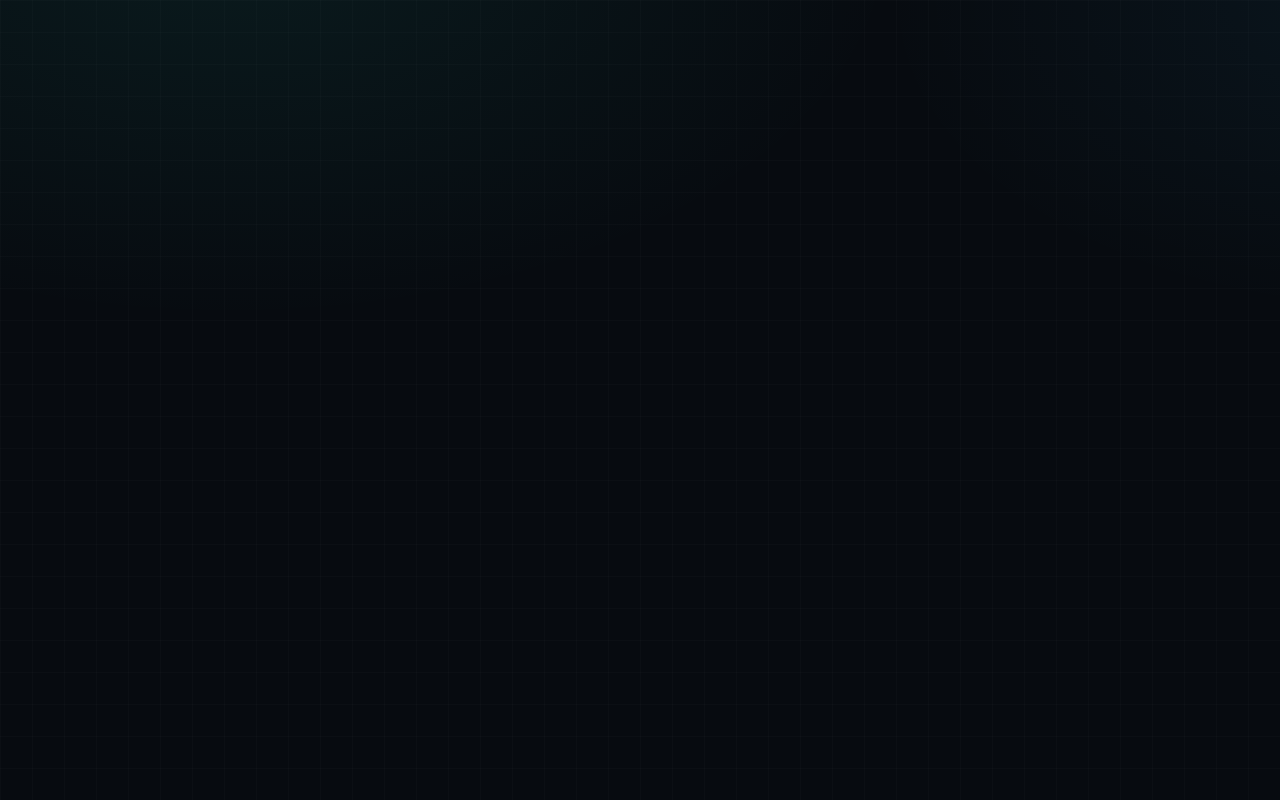
CommandPalette › opens on Cmd/Ctrl+K, filters, and navigates on Enter
Step 1. Press k
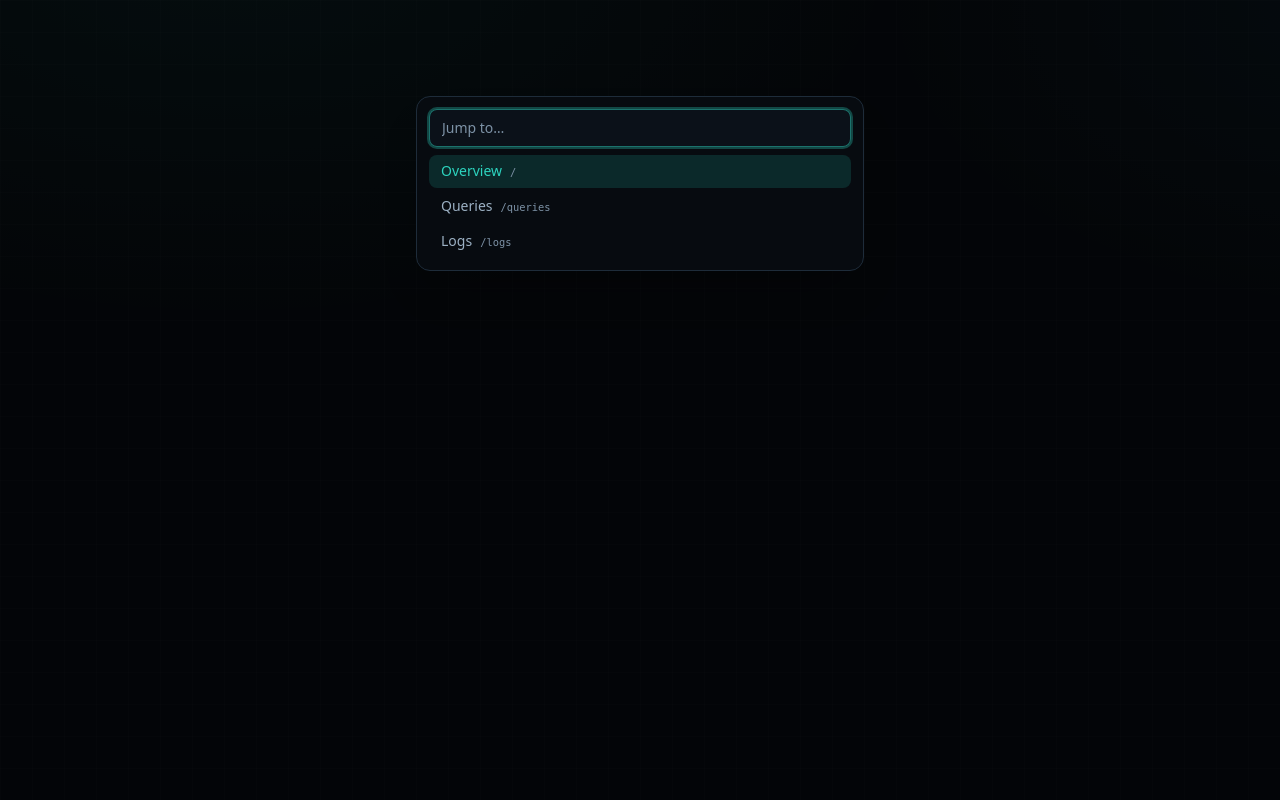
Expected: the element with test id "command-palette" is shown
Step 2. Type "que" into the field with test id "palette-input" → (640, 128), box [429,109,851,147]
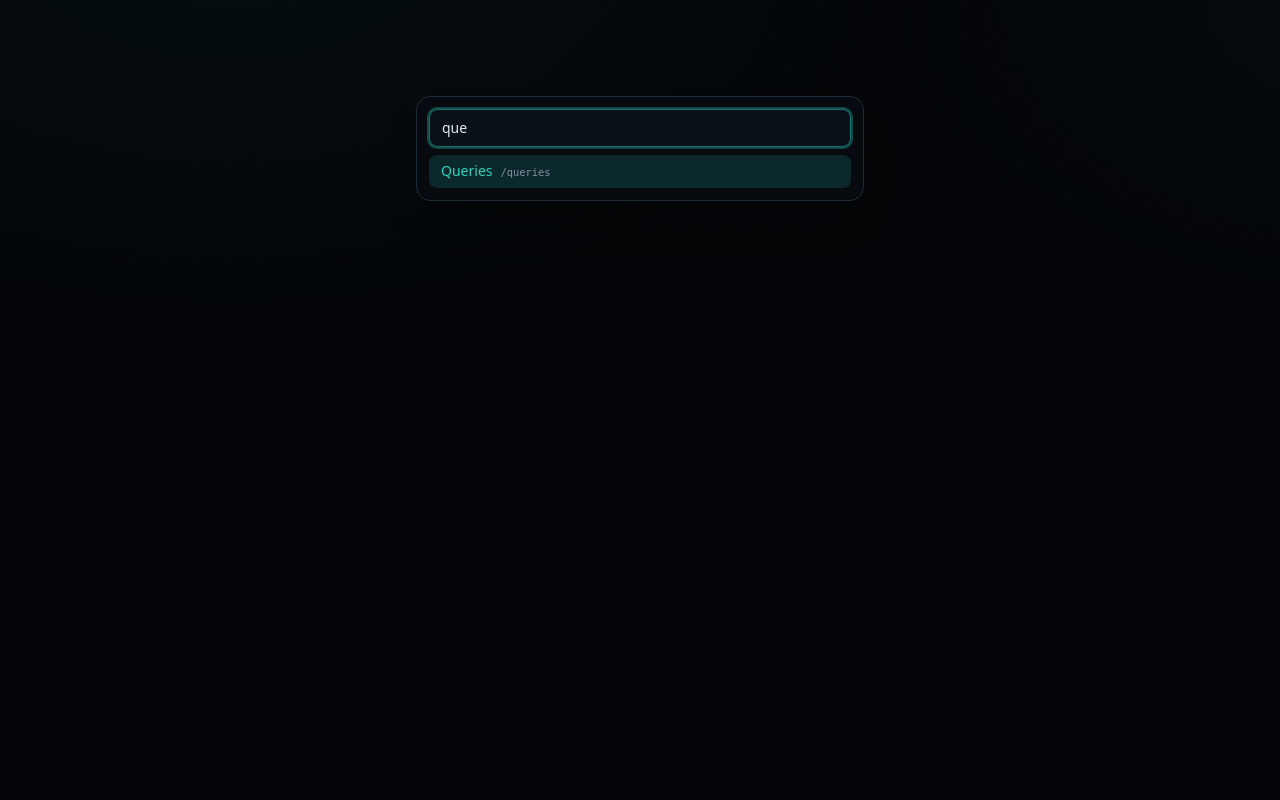
Step 3. Press Enter in the field with test id "palette-input", box [429,109,851,147]
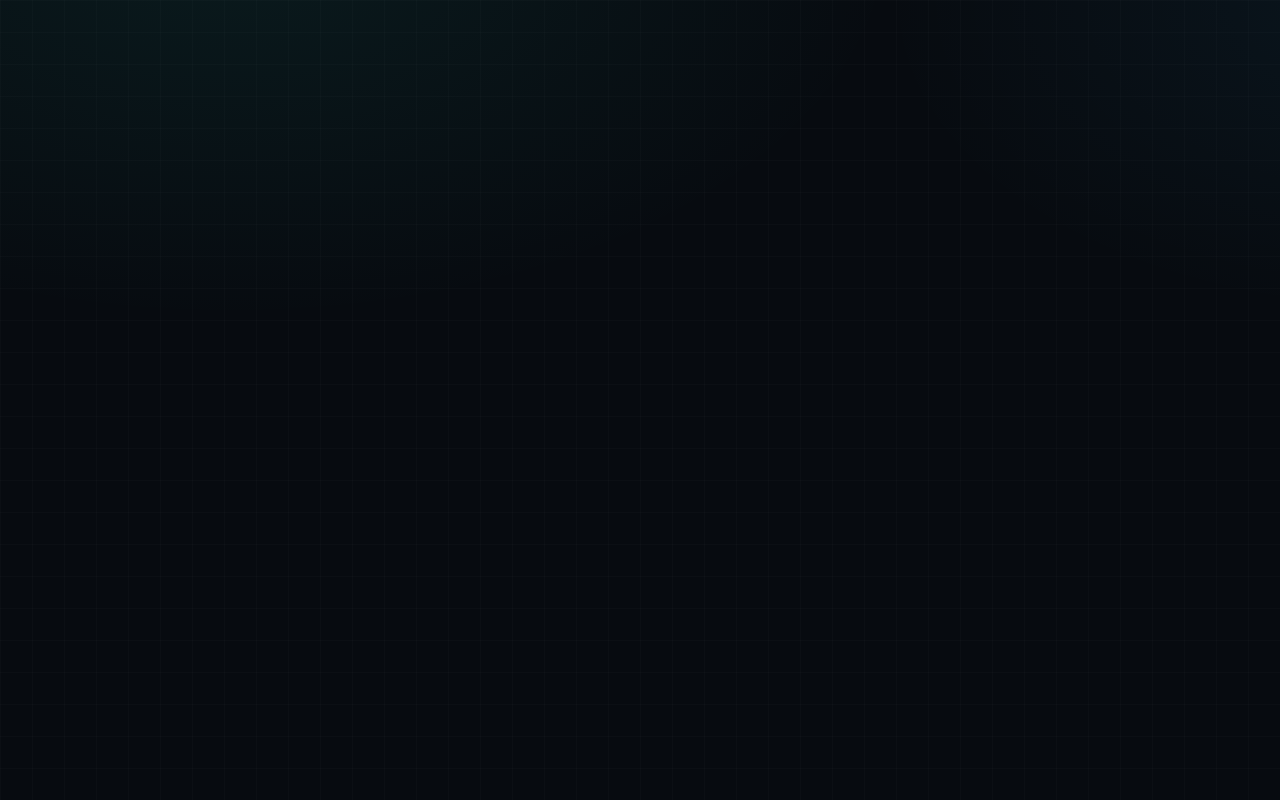
Expected: the element with test id "command-palette" is gone
